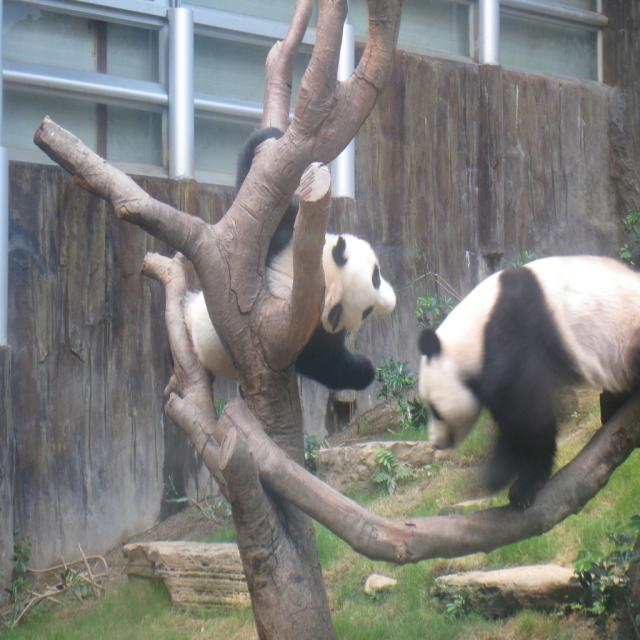panda: (181, 123, 394, 402), (418, 260, 640, 503)
